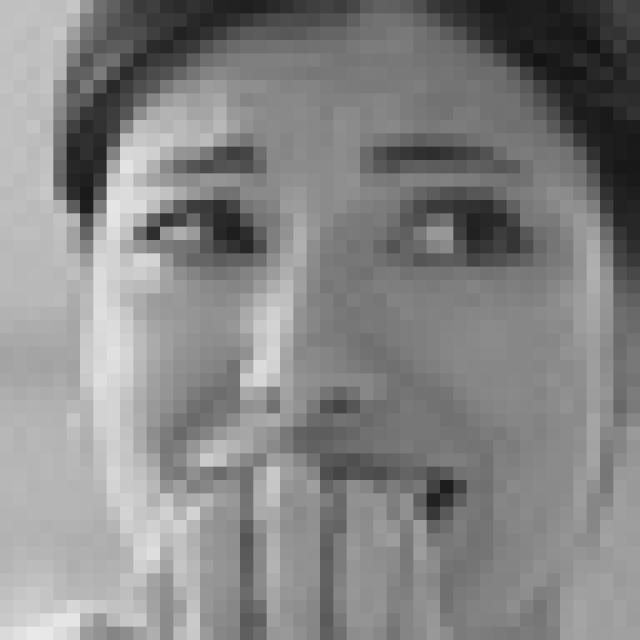fear: (113, 135, 540, 583)
